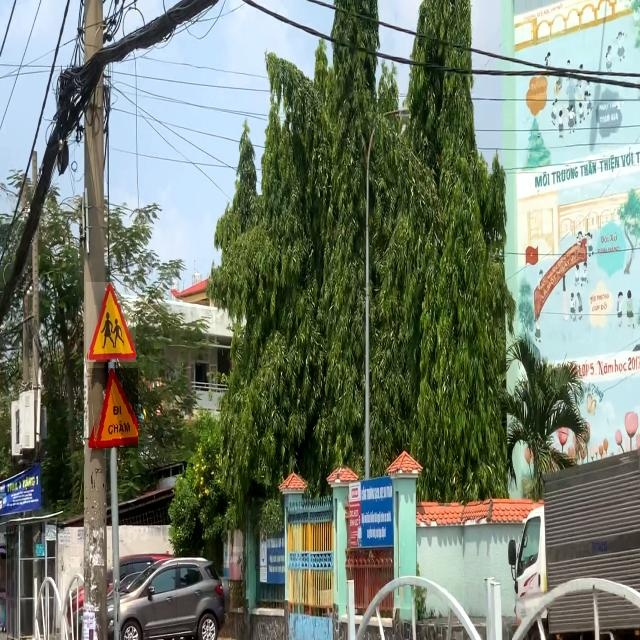bien_nguy_hiem: (86, 282, 136, 362), (88, 368, 138, 448)
